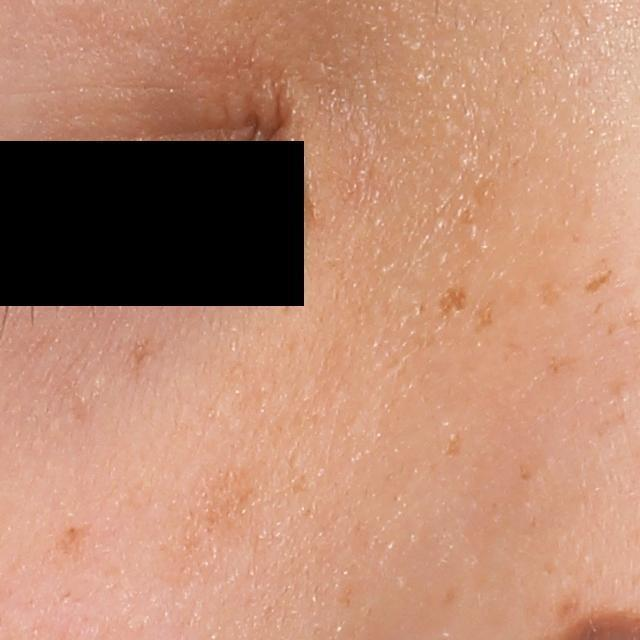melasma: (171, 456, 272, 571), (46, 519, 99, 566), (123, 335, 163, 387), (438, 282, 471, 320), (538, 274, 569, 312), (472, 296, 498, 336), (580, 268, 616, 296), (544, 352, 579, 377), (444, 429, 464, 460), (517, 461, 536, 484), (607, 319, 618, 337), (593, 301, 605, 315)
